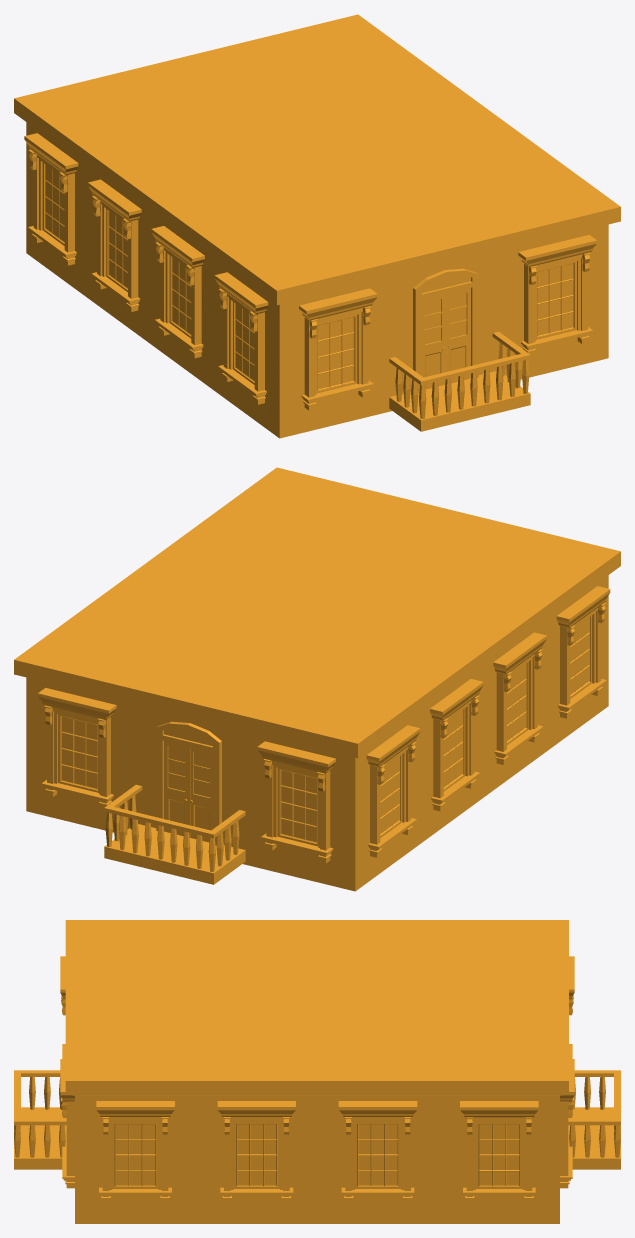
Rendered from SM_Floor_Mid_Balcony_As_Steampunk.fbx.
3 renders of one model, top to bottom at view 1: azimuth 30°, elevation 25°; view 2: azimuth 150°, elevation 25°; view 3: azimuth 270°, elevation 25°, orthographic. The views are drawn at different scales.
Parts seen in each view (by area): view 1: floor-mid-balcony-as-steampunk; view 2: floor-mid-balcony-as-steampunk; view 3: floor-mid-balcony-as-steampunk.
Part boxes in pixels (bbox=[...]): floor-mid-balcony-as-steampunk: bbox=[14, 14, 620, 438]; floor-mid-balcony-as-steampunk: bbox=[14, 467, 620, 891]; floor-mid-balcony-as-steampunk: bbox=[14, 920, 620, 1223].
Bounding box in the file's own units: 9.71 × 4 × 15.01.
